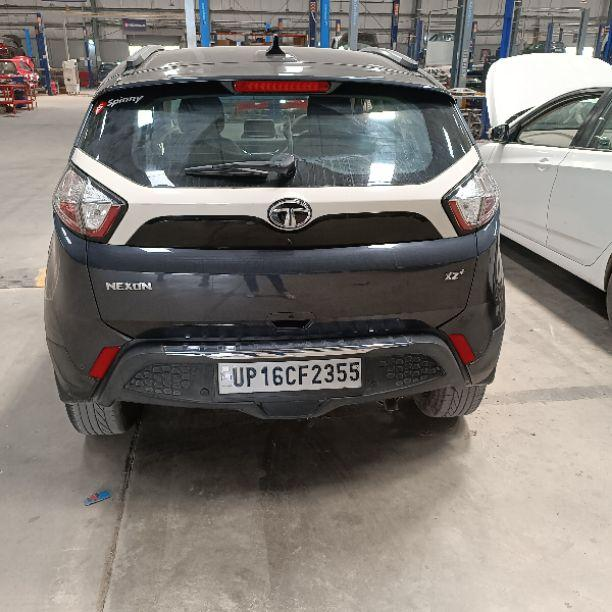license_plate: (215, 355, 363, 394)
